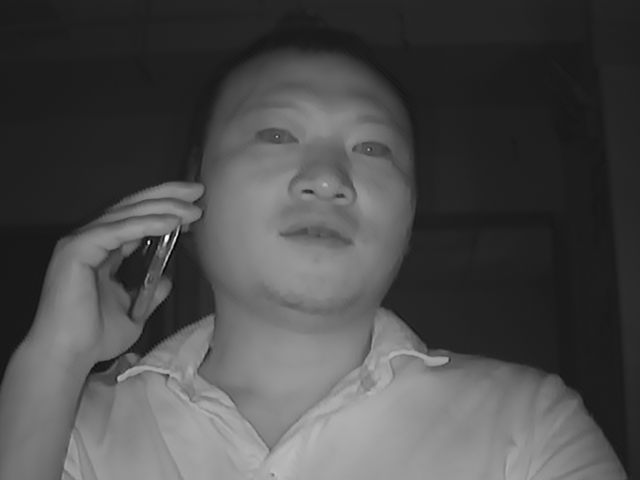hand: (36, 169, 199, 381)
